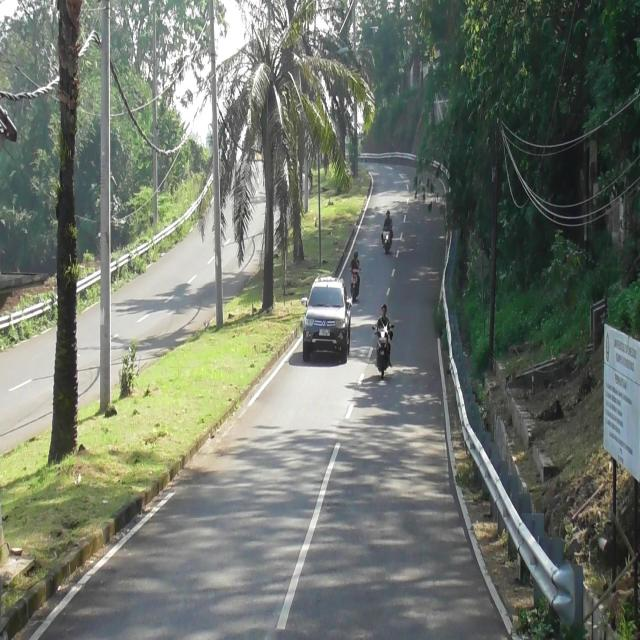motorcycle: (374, 326, 394, 378), (349, 267, 361, 300), (381, 225, 392, 251)
person: (376, 303, 392, 338), (383, 208, 394, 233), (349, 250, 360, 273)
rider_region: (372, 304, 396, 382), (347, 247, 362, 300), (381, 208, 394, 252)
